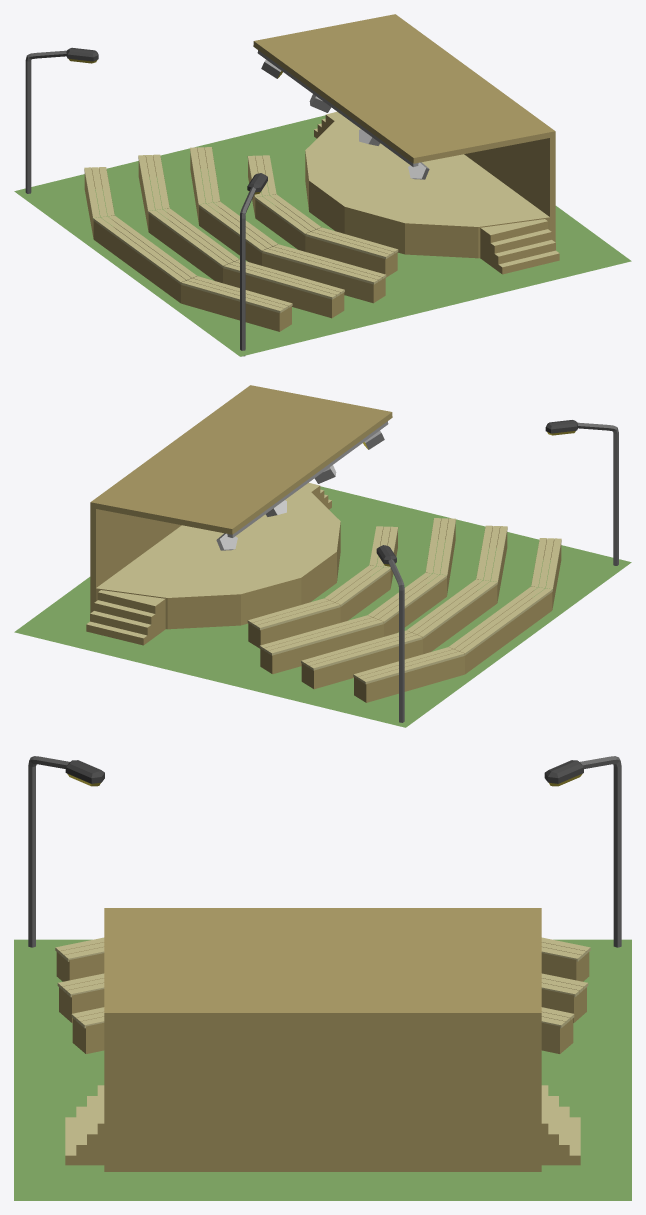
Rendered from ConciertosSmall.fbx.
3 views of the same model, one above another, from view 1: azimuth 30°, elevation 25°; view 2: azimuth 150°, elevation 25°; view 3: azimuth 270°, elevation 25° (orthographic). The views are drawn at different scales.
Visible parts, largest first — view 1: landscape_entertainments.003; view 2: landscape_entertainments.003; view 3: landscape_entertainments.003.
Part boxes in pixels (left/top/right/bottom): landscape_entertainments.003: left=14, top=14, right=631, bottom=356; landscape_entertainments.003: left=14, top=385, right=631, bottom=727; landscape_entertainments.003: left=14, top=756, right=631, bottom=1200.
Size of the model in its own units: 800 by 301 by 800.
